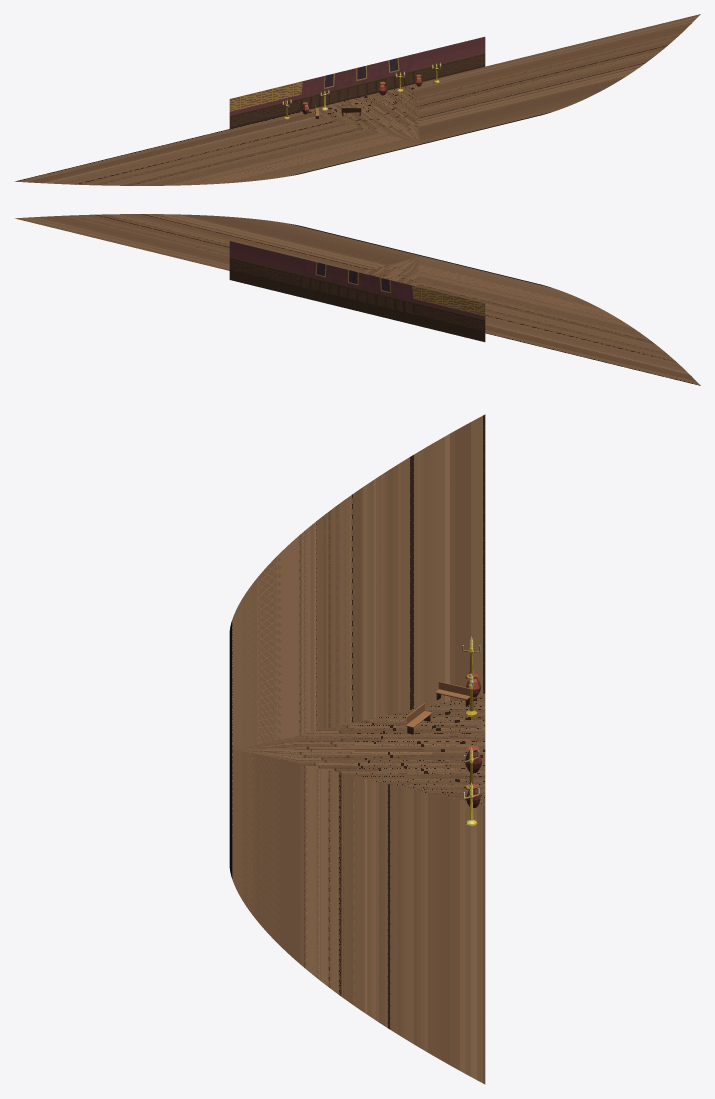
Rendered from bg_mansion.glb.
3 renders of one model, top to bottom at view 1: azimuth 30°, elevation 25°; view 2: azimuth 150°, elevation 25°; view 3: azimuth 270°, elevation 25°, orthographic. The views are drawn at different scales.
Visible parts, largest first — view 1: mansion_floor, mansion_wall, mansion_decor; view 2: mansion_floor, mansion_wall; view 3: mansion_floor, mansion_decor.
Boxes of the visible parts, bbox=[...] form: mansion_floor: bbox=[15, 14, 700, 185]; mansion_wall: bbox=[229, 37, 485, 128]; mansion_decor: bbox=[284, 65, 440, 119]; mansion_floor: bbox=[15, 214, 700, 385]; mansion_wall: bbox=[229, 241, 485, 341]; mansion_floor: bbox=[229, 414, 485, 1084]; mansion_decor: bbox=[406, 645, 482, 825].
Bounding box in the file's own units: 80 × 4.34 × 12.9.
4 materials, 2 textured.
